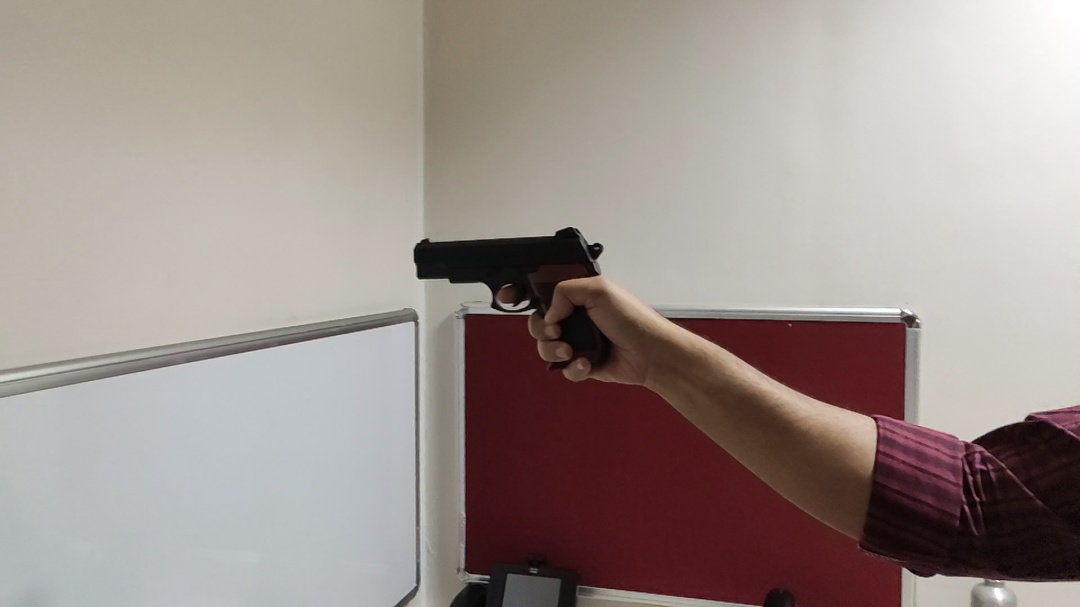gun: (190, 1, 984, 482)
